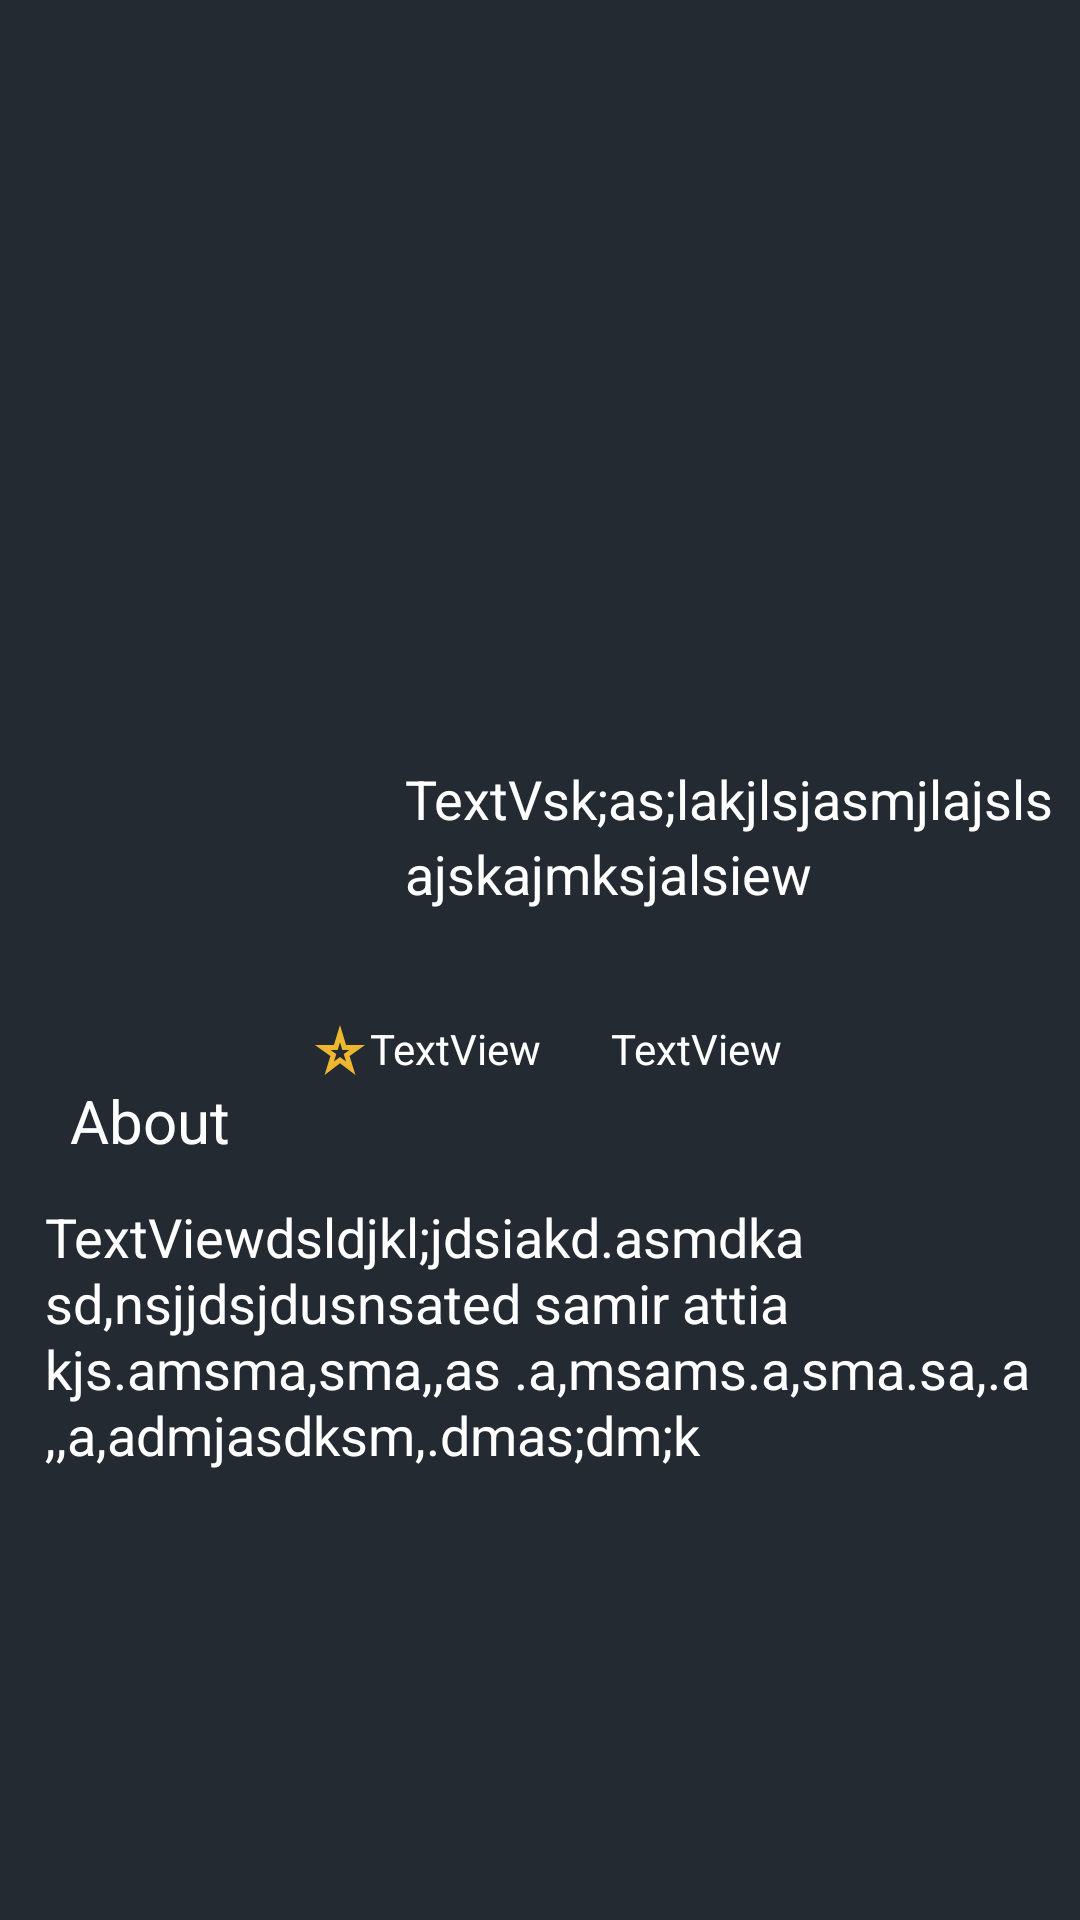

Point at icon controls on the screen. Image size 1080px x 1920px, points as [x,y].
star: [340,1050]
